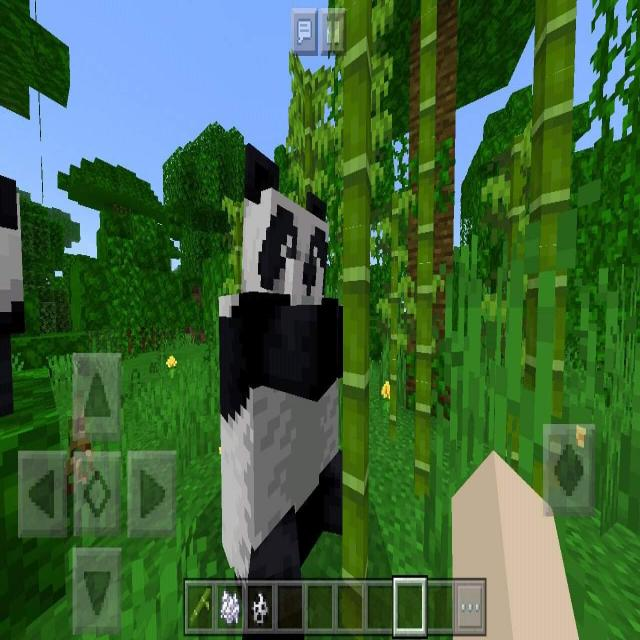Panda: (218, 141, 344, 638)
